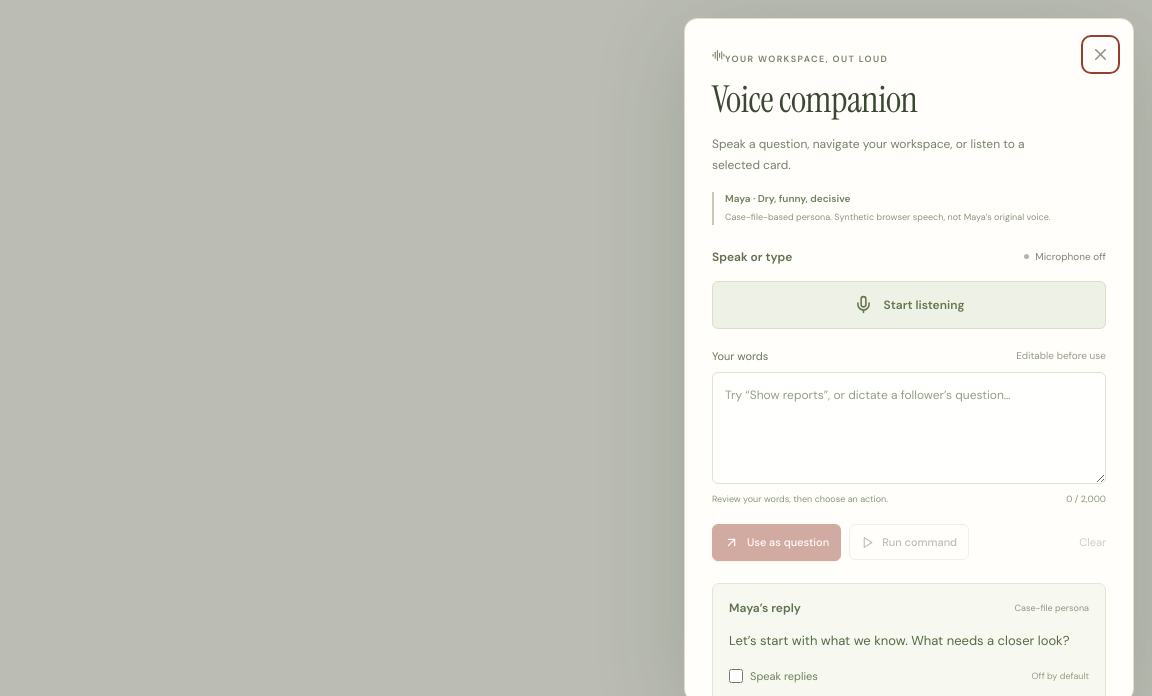
Voice companion with simulated browser speech APIs › returns to an editable state after microphone permission is refused
The width and height of the screenshot is (1152, 696).
Step 1. Click the button "Start listening" → click(909, 305), box x1=712 y1=281 x2=1106 y2=329
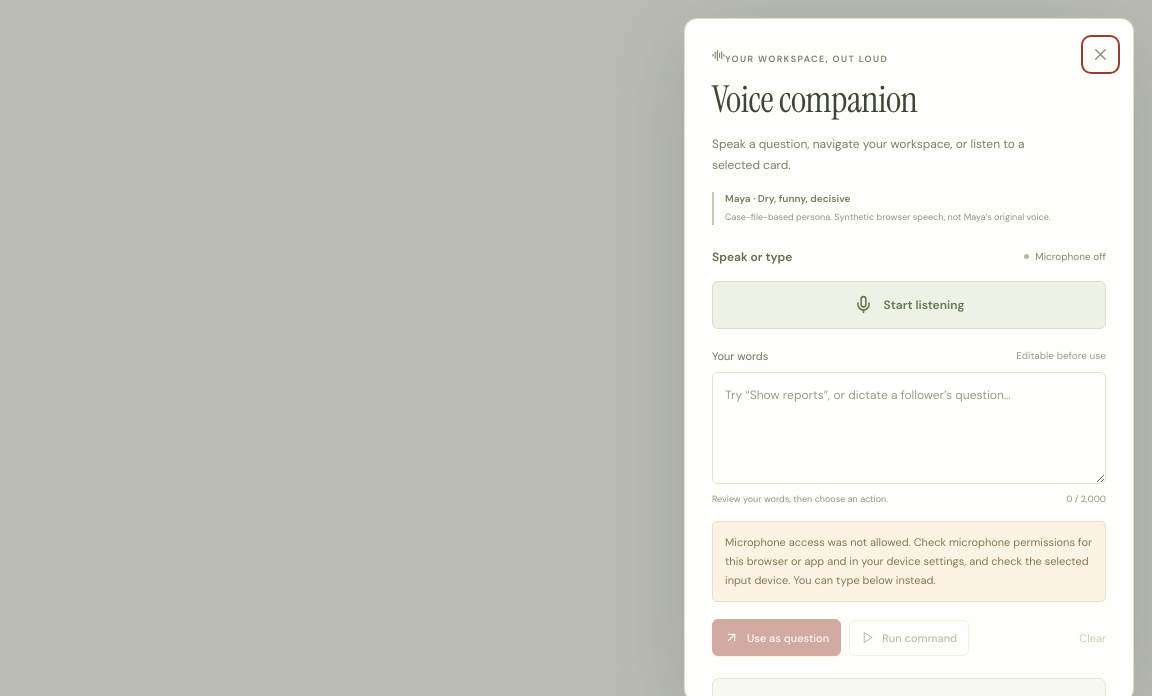
Expected: the text "Microphone off" is shown, x1=1024 y1=250 x2=1106 y2=263
Expected: the text "Microphone access was not allowed" is shown, x1=725 y1=535 x2=1092 y2=587
